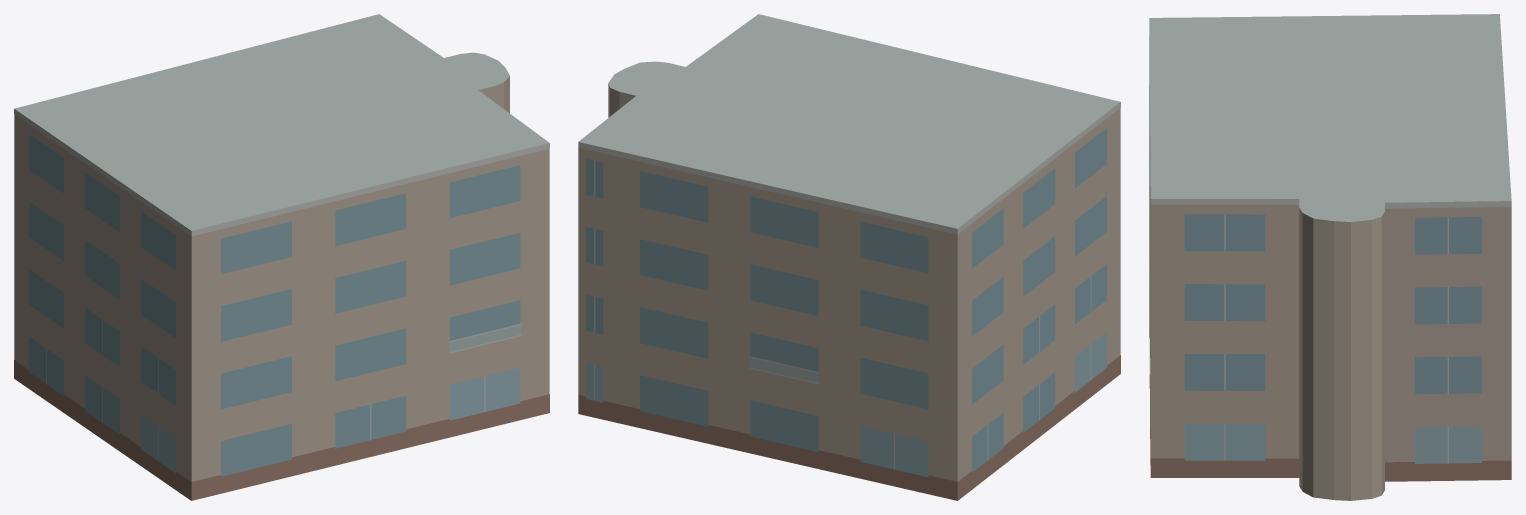
The model's file is survey-upis-32472984.glb.
3 renders of one model, left to right at view 1: azimuth 30°, elevation 25°; view 2: azimuth 150°, elevation 25°; view 3: azimuth 270°, elevation 25°, orthographic. The views are drawn at different scales.
Visible parts, largest first — view 1: survey-upis-32472984.tmp; view 2: survey-upis-32472984.tmp; view 3: survey-upis-32472984.tmp.
Part boxes in pixels (<box>): survey-upis-32472984.tmp: <box>14,14,549,500</box>; survey-upis-32472984.tmp: <box>578,14,1120,500</box>; survey-upis-32472984.tmp: <box>1149,14,1511,500</box>.
Size of the model in its own units: 18.71 by 11.7 by 13.78.
